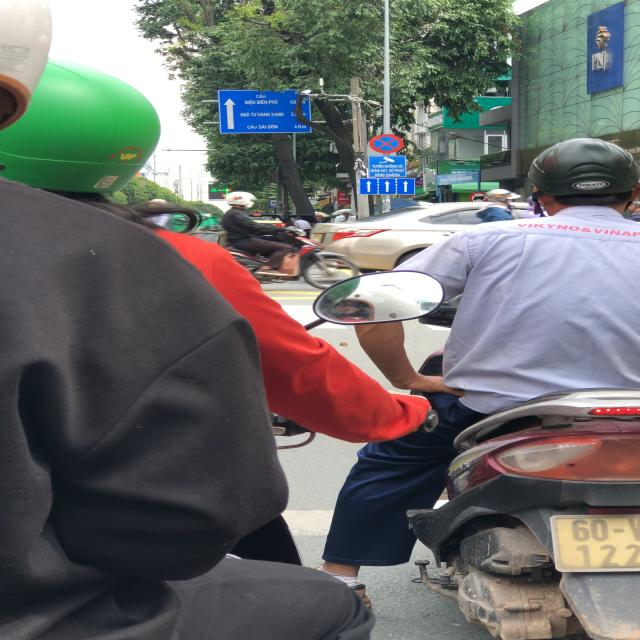Bien bao cam dung xe va do xe: (368, 131, 410, 153)
